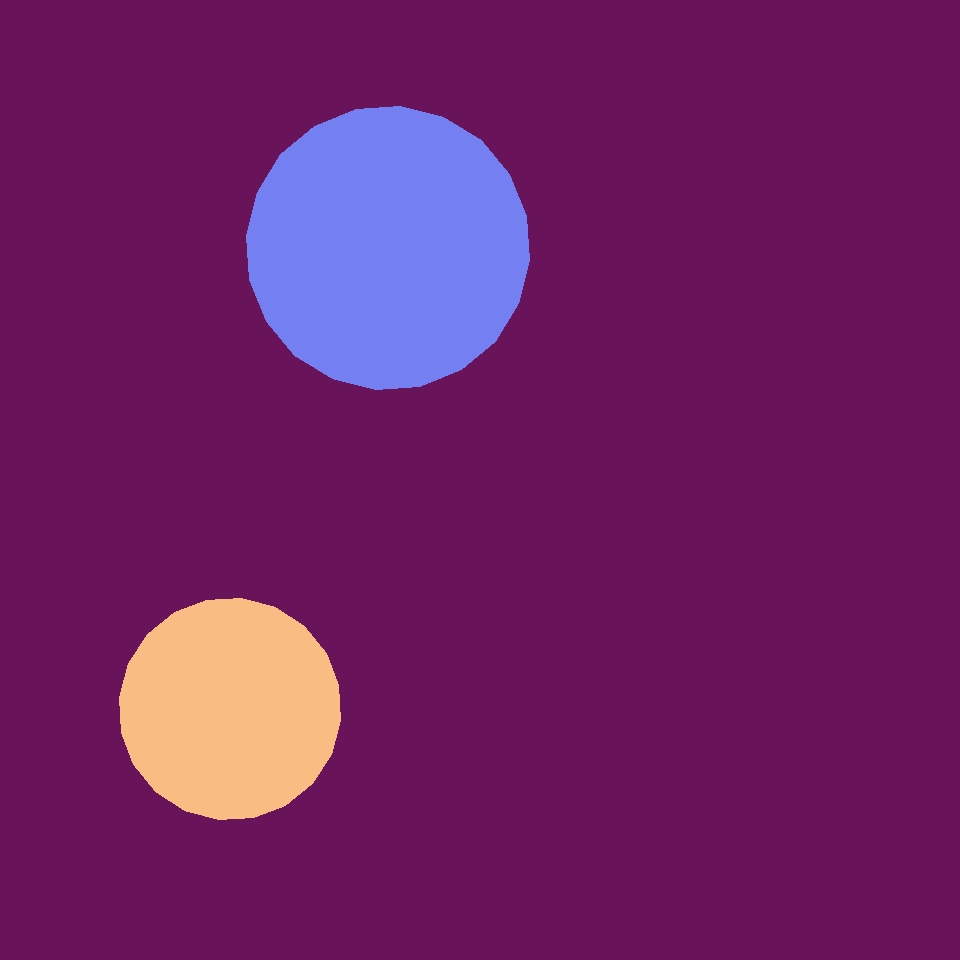circle: (94, 623, 374, 932), (130, 368, 420, 650), (438, 350, 622, 556)
triangle: (246, 107, 530, 390), (673, 299, 932, 558), (120, 598, 340, 820)
